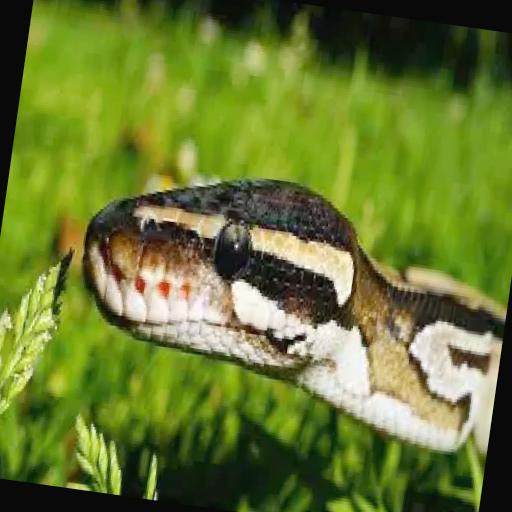snake: (82, 178, 506, 451)
